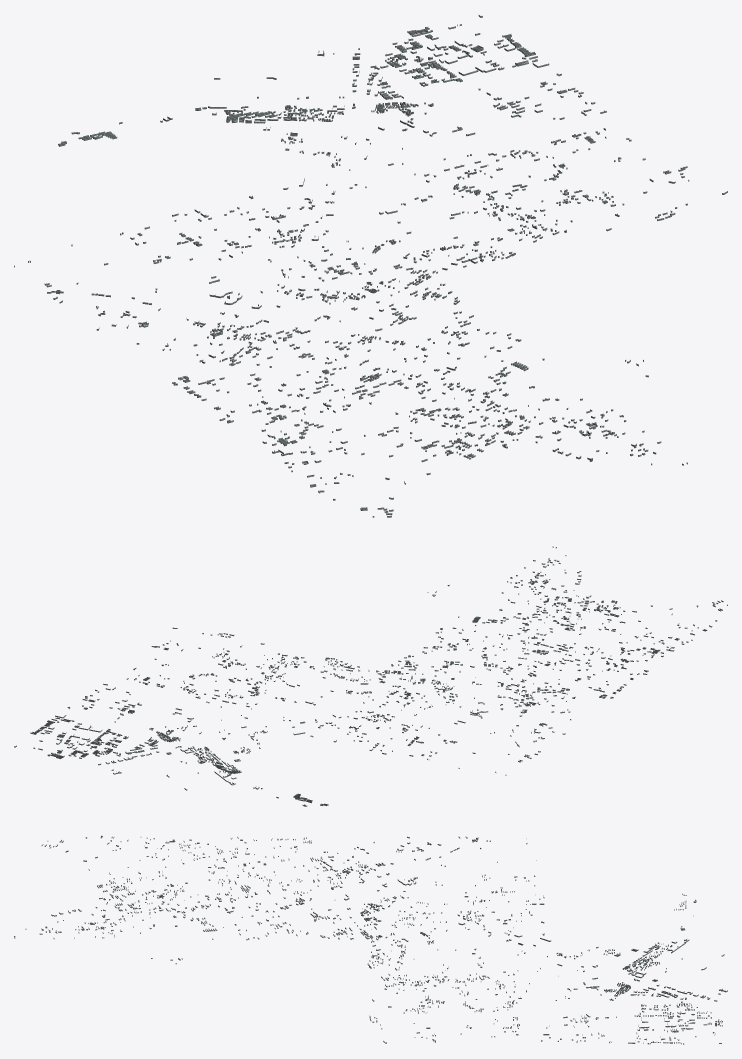
Rendered from NoLod_97.glb.
3 renders of one model, top to bottom at view 1: azimuth 30°, elevation 25°; view 2: azimuth 150°, elevation 25°; view 3: azimuth 270°, elevation 25°, orthographic. The views are drawn at different scales.
Parts seen in each view (by area): view 1: rtc; view 2: rtc; view 3: rtc.
Part boxes in pixels (x1=…): rtc: x1=14, y1=15, x2=727, y2=517; rtc: x1=14, y1=546, x2=727, y2=806; rtc: x1=14, y1=835, x2=727, y2=1044.
Size of the model in its own units: 6762 by 71.06 by 9869.
Materials: 2 (2 with a texture image).
